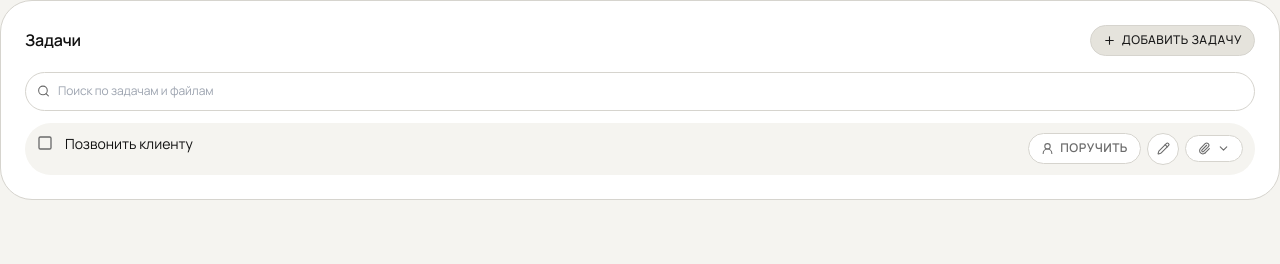
Test case: TasksTab — a refused action › keeps the typed text when creating fails
Expected: the text "Позвонить клиенту" is shown, [65, 134, 193, 153]
Click the button "Добавить задачу" at (1172,40), box [1090, 25, 1255, 56]
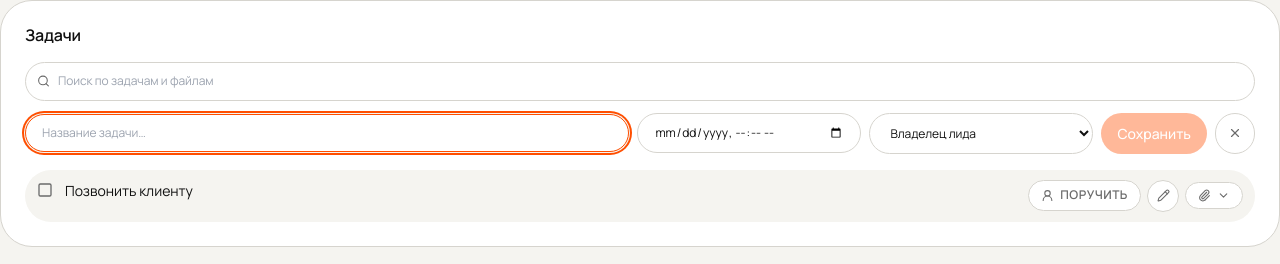
Type "Новая задача" into the field with placeholder "Название задачи…" at (327,133), box [25, 114, 629, 152]
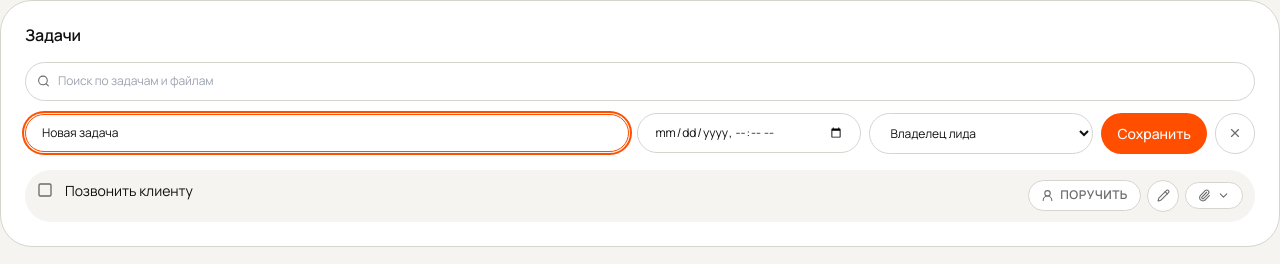
Click the button "Сохранить" at (1154,133), box [1101, 113, 1207, 154]
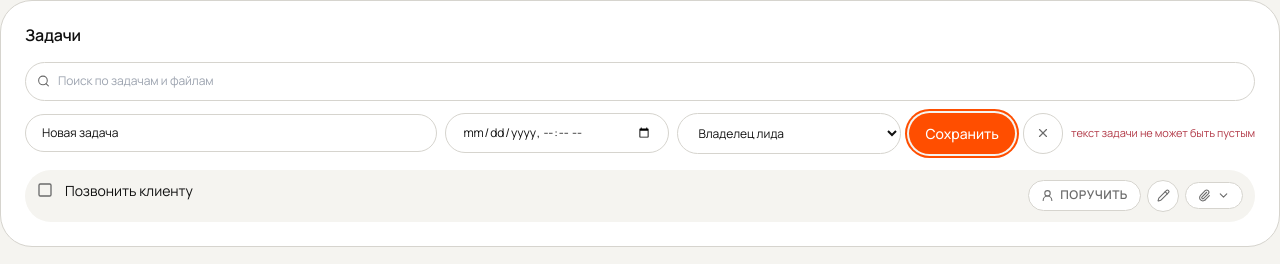
Now the message "текст задачи не может быть пустым" is shown, box [1071, 125, 1255, 141]
